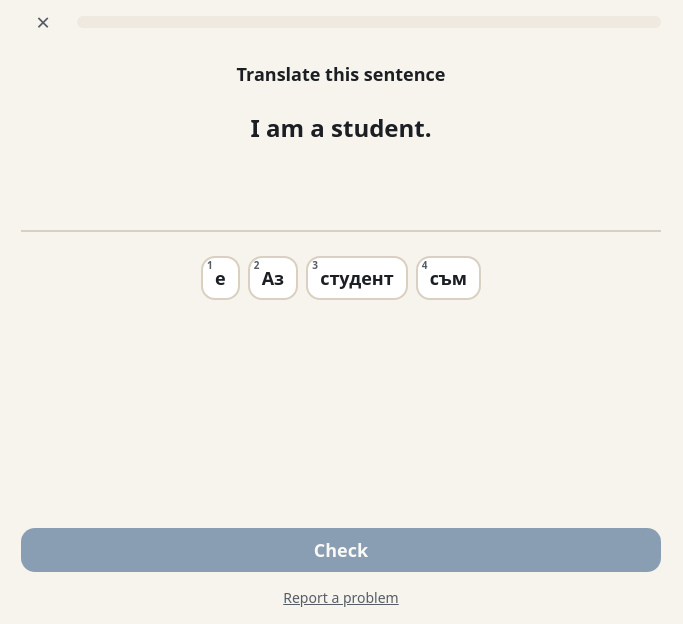
Test: tiles_translate › marks a wrong grammar word with a note
Click the button "2 Аз".
click(273, 278)  # box top-left (248, 256), bottom-right (298, 300)
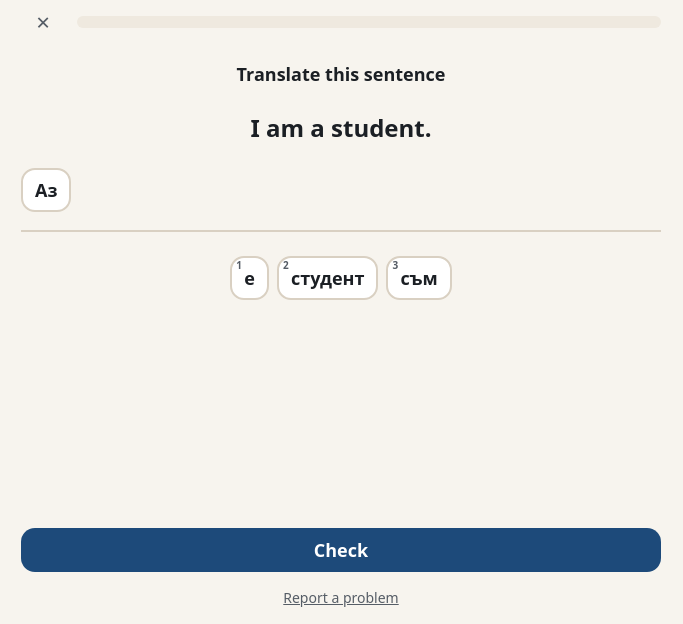
Click the button "1 е".
click(250, 278)  # box top-left (230, 256), bottom-right (269, 300)
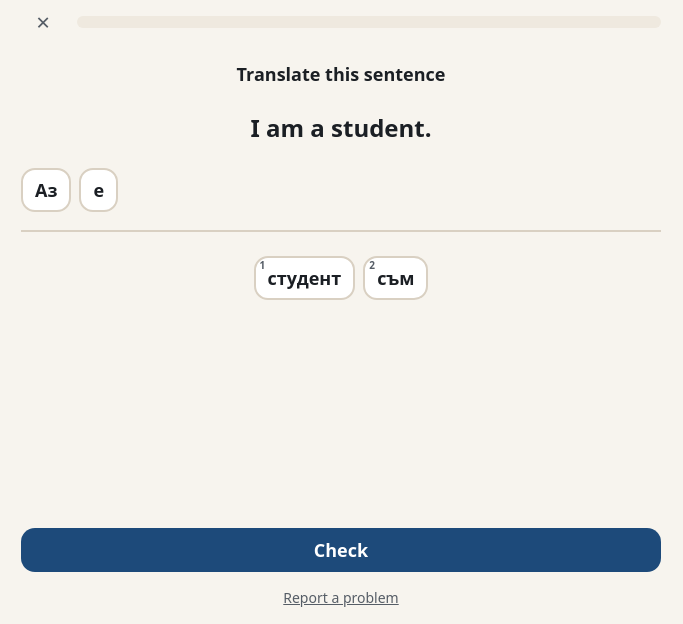
Click the button "1 студент".
click(304, 278)  # box top-left (254, 256), bottom-right (355, 300)
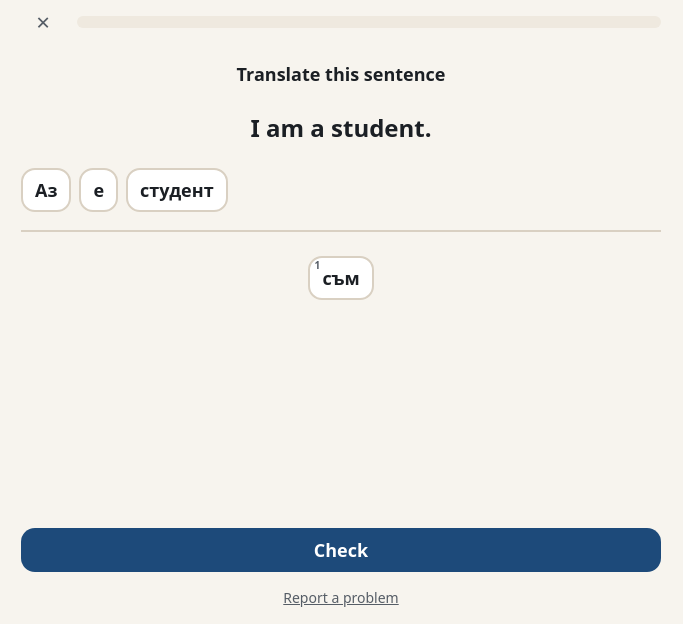
Click the button "Check".
click(341, 550)  # box top-left (21, 528), bottom-right (661, 572)
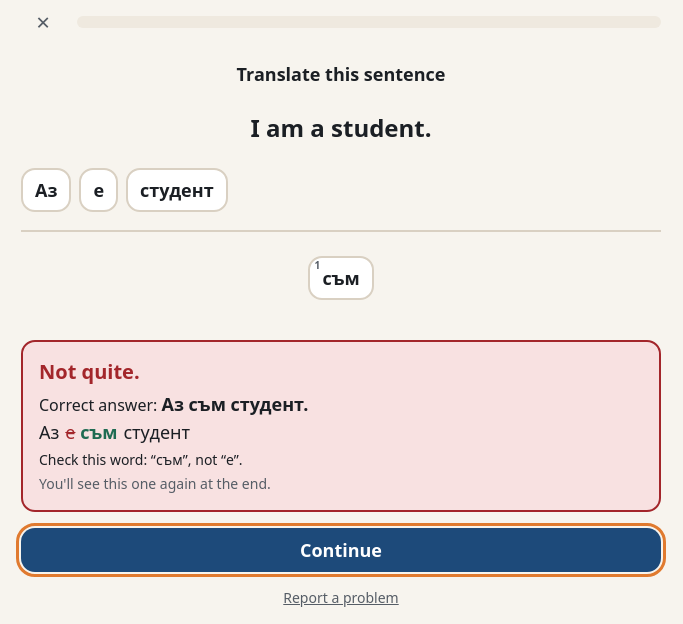
Now the text "Check this word: “съм”, not “е”." is shown, box top-left (39, 450), bottom-right (243, 469)
